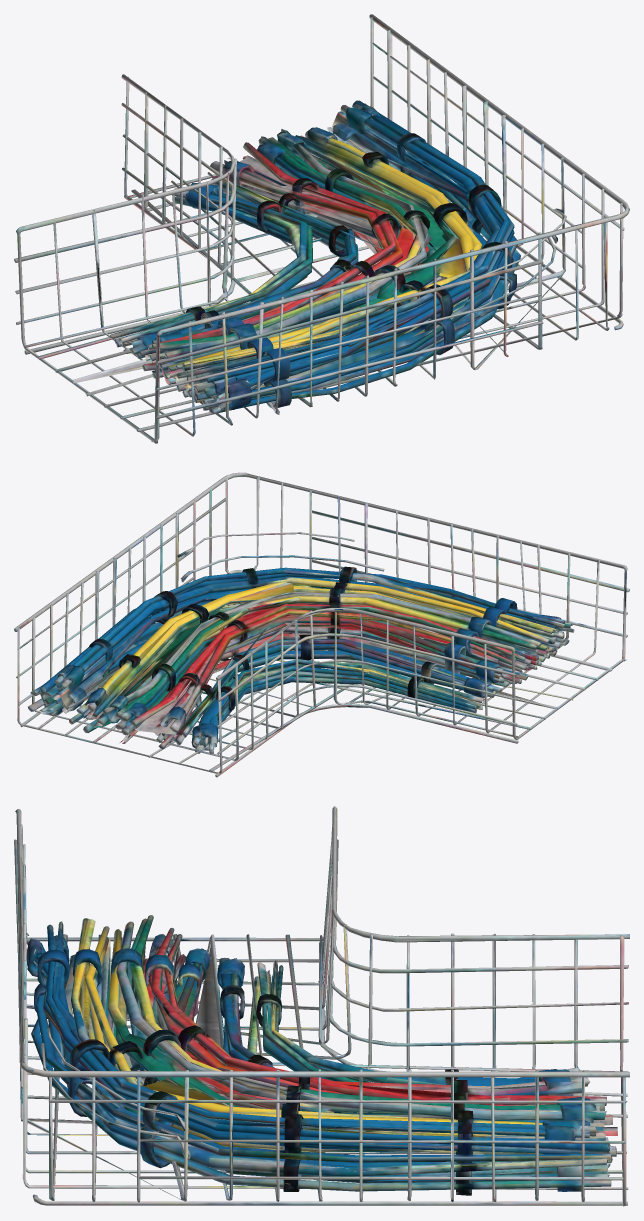
File: cable_tray_corner_90.glb
3 renders of one model, top to bottom at view 1: azimuth 30°, elevation 25°; view 2: azimuth 150°, elevation 25°; view 3: azimuth 270°, elevation 25°, orthographic. The views are drawn at different scales.
Size of the model in its own units: 0.9556 by 0.2328 by 0.9209.
Materials: 1 (1 with a texture image).
